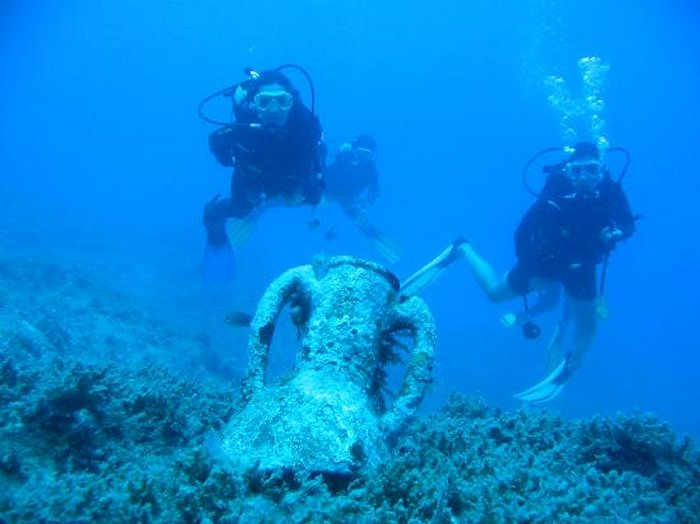amphora: (213, 254, 440, 501)
